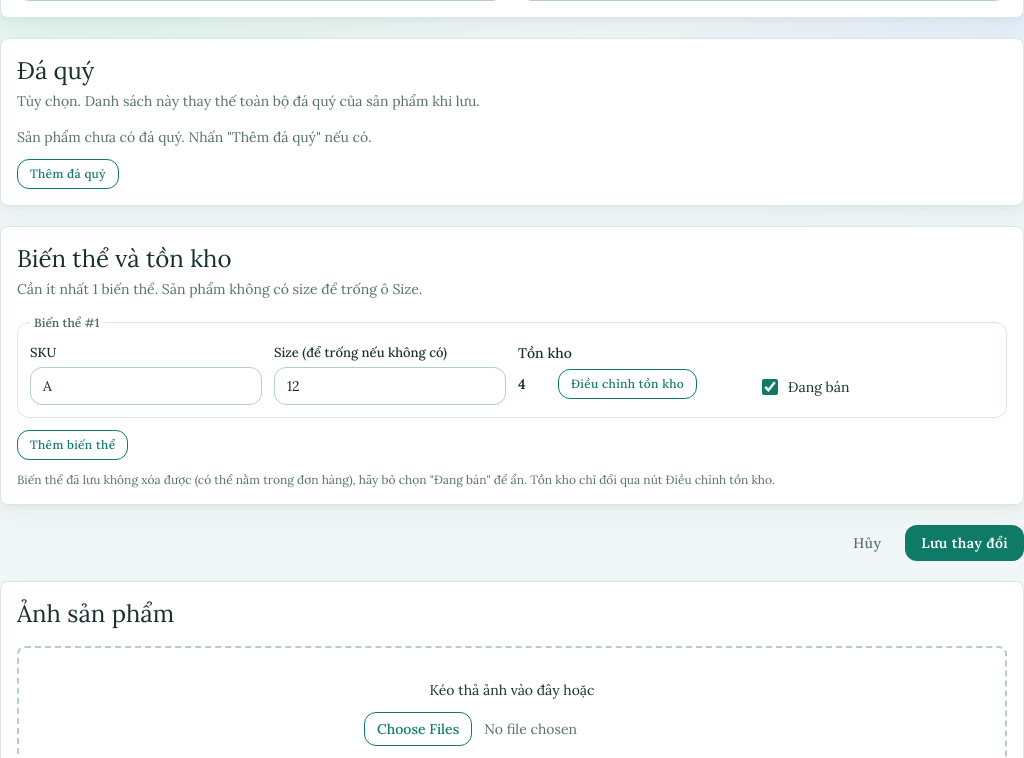
Scenario: ProductForm (sửa) › tồn kho biến thể đã lưu chỉ đổi qua nút Điều chỉnh tồn kho; INSUFFICIENT_STOCK hiện lỗi
(page scrolled)
Expected: the text with test id "stock-11" reads "4", [518,375,526,393]
Click the button with aria-label "Điều chỉnh tồn kho A" at (628, 384), box [558,369,697,399]
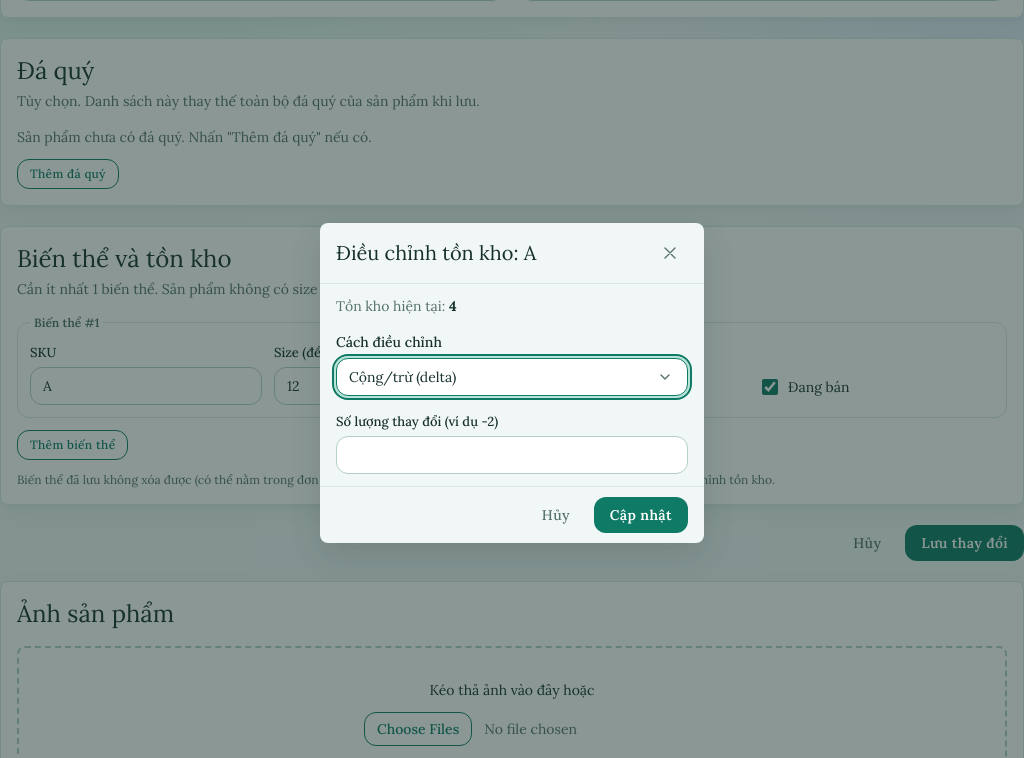
Type "-9" into the field labelled "Số lượng thay đổi (ví dụ -2)" at (512, 455), box [336,436,688,474]
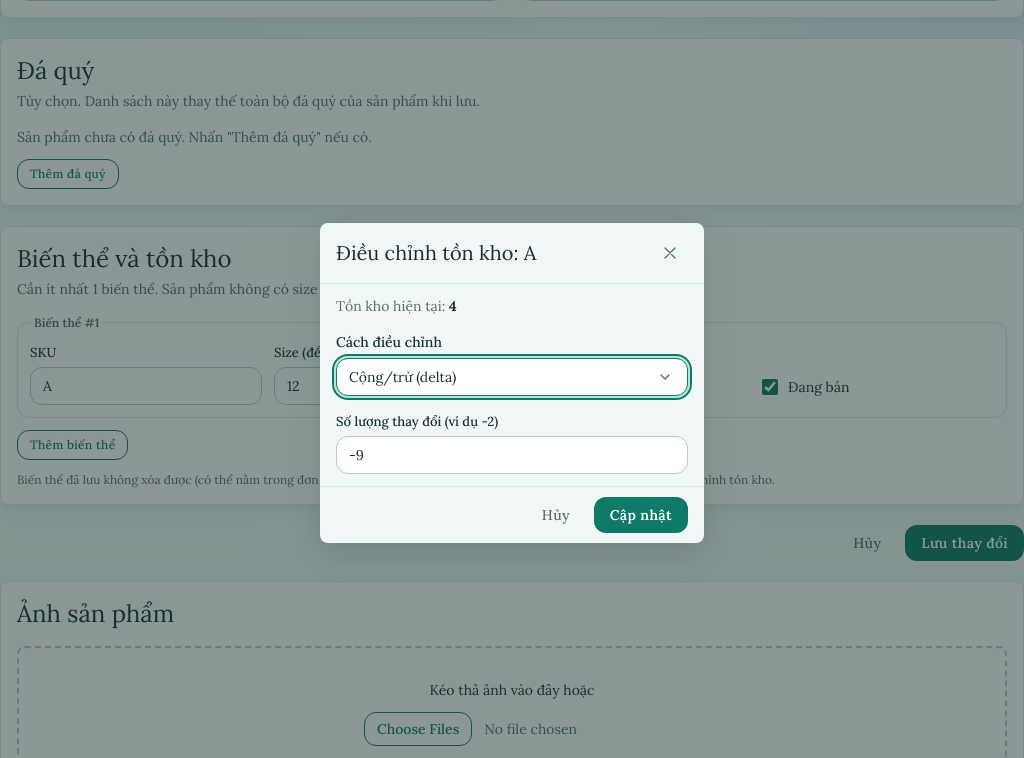
Click the button "Cập nhật" at (641, 515), box [594,497,688,533]
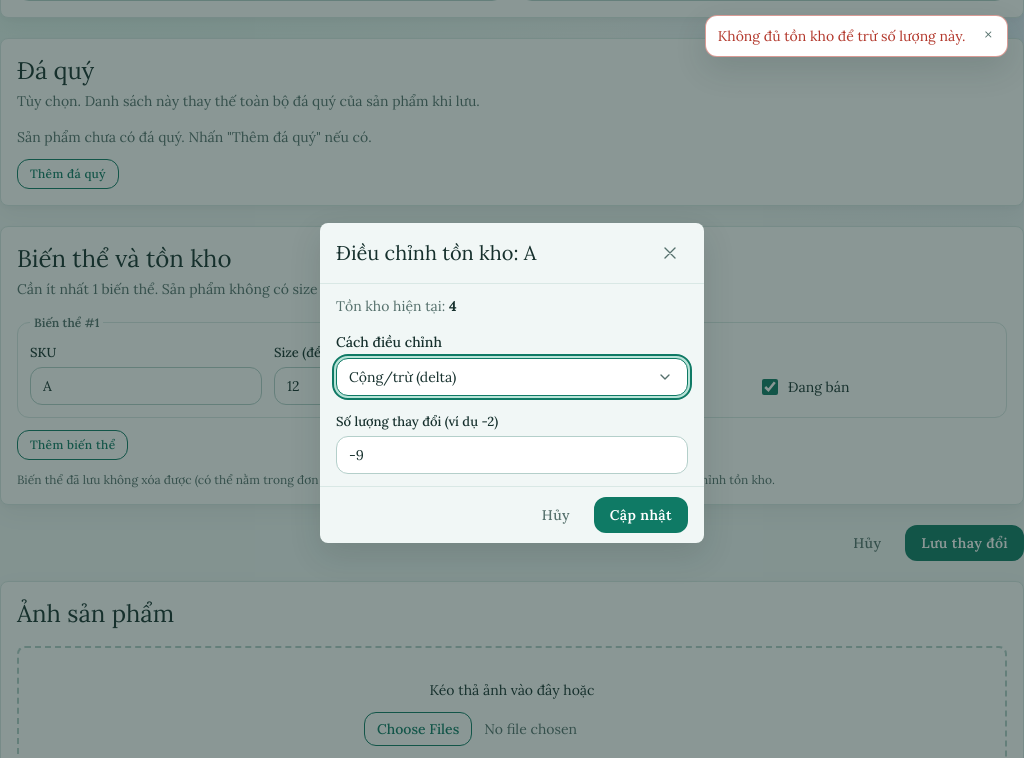
Expected: the text "Không đủ tồn kho để trừ số lượng này." is shown, [718,26,965,46]
Replace the text in the field labelled "Số lượng thay đổi (ví dụ -2)" with "-2" at (512, 455), box [336,436,688,474]
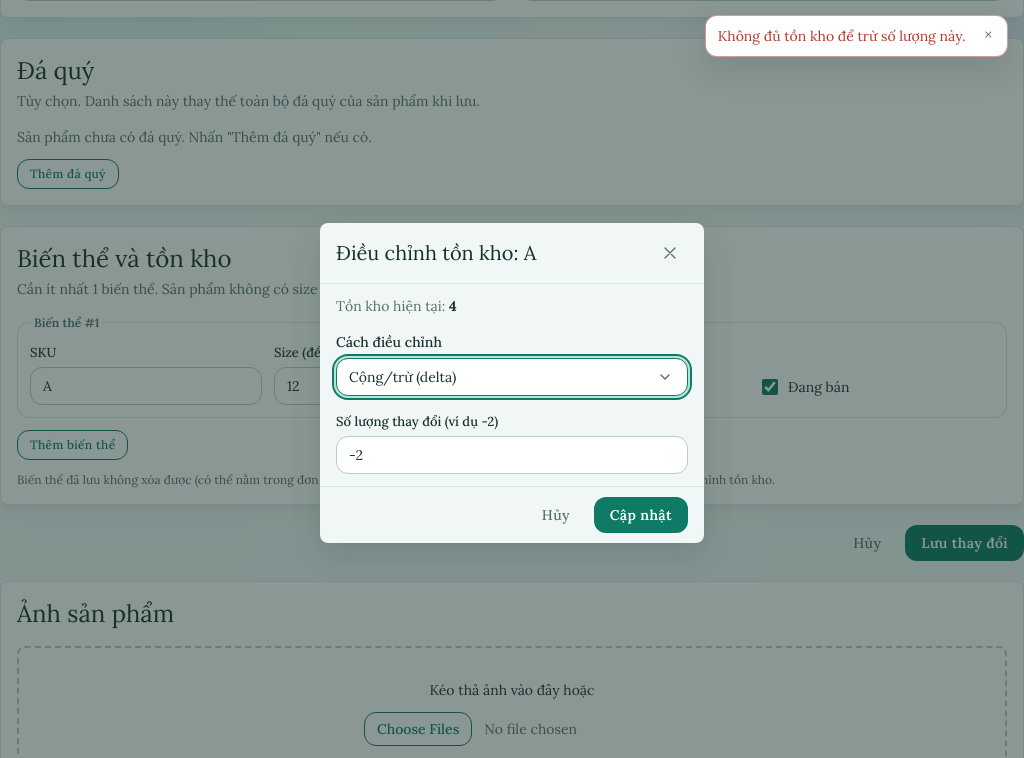
Click the button "Cập nhật" at (641, 515), box [594,497,688,533]
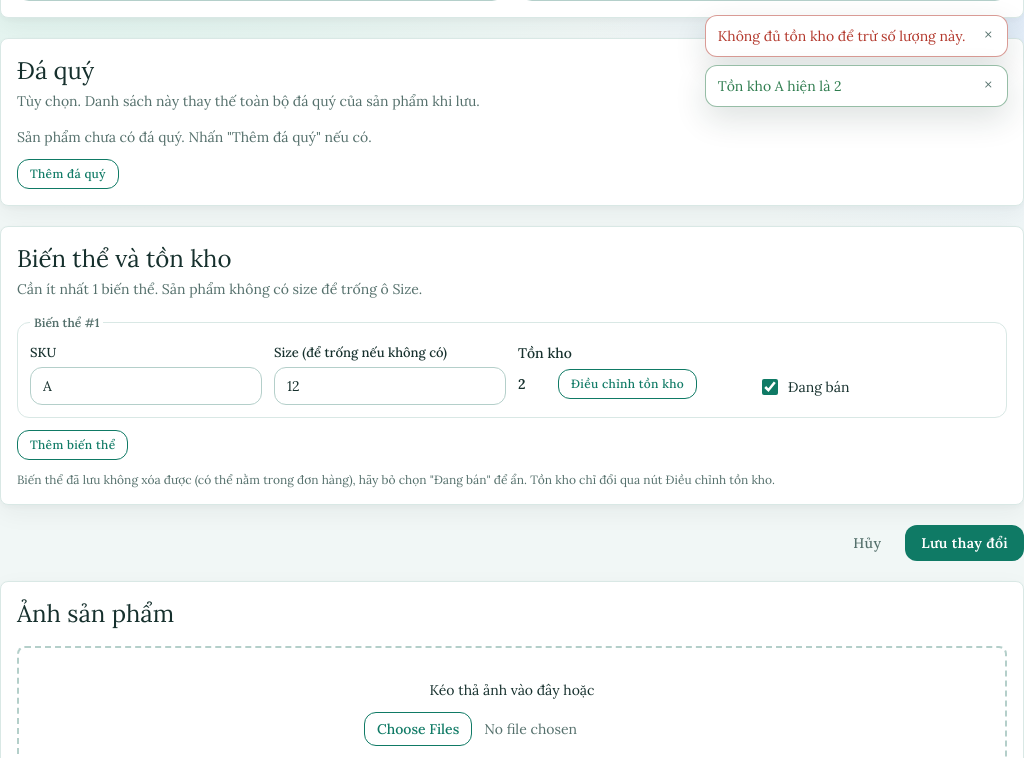
Expected: the text with test id "stock-11" reads "2", [518,375,526,393]
